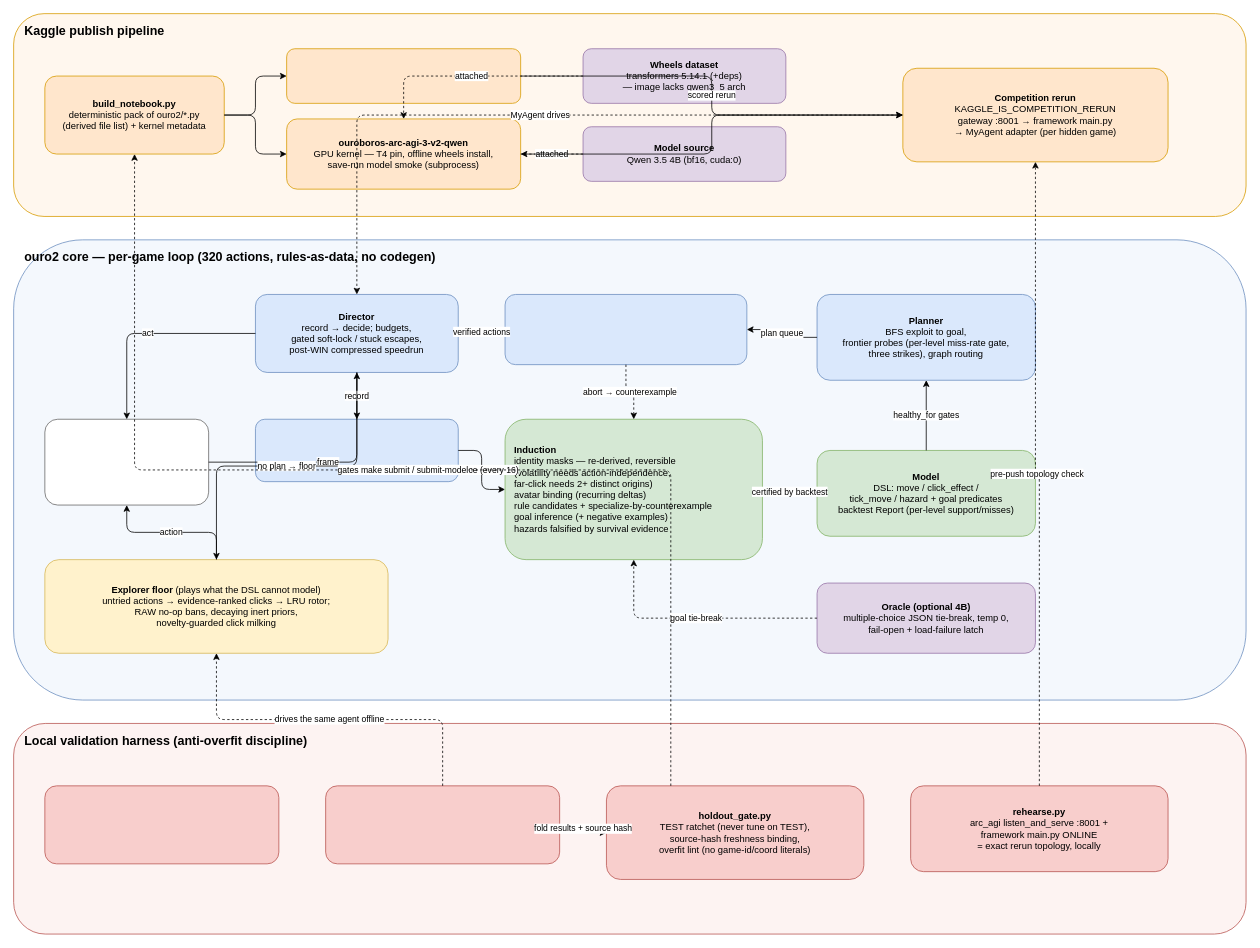
Image size: 1260x948. Some labels were removed from this diagram. Here are the shapes that lost their labels. From the top down, the centre of each, then its label:
(x=403, y=75): ouroboros-arc-agi-3-v2 CPU kernel — deterministic, 0 LLM calls (the product)
(x=625, y=329): Executor committed queue, per-step verification (reality outranks the model)
(x=126, y=461): Game environment 64x64 frames, levels, WIN / GAME_OVER, actions 1-5, 7 + click 6
(x=356, y=450): Timeline append-only transitions (ground truth)
(x=161, y=824): FakeEnv + 6 synthetic games unit + gate tests (every mechanism pinned)
(x=442, y=824): play_local.py offline arcade; DEV(13) / TEST(9) / QUARANTINE(3) folds
